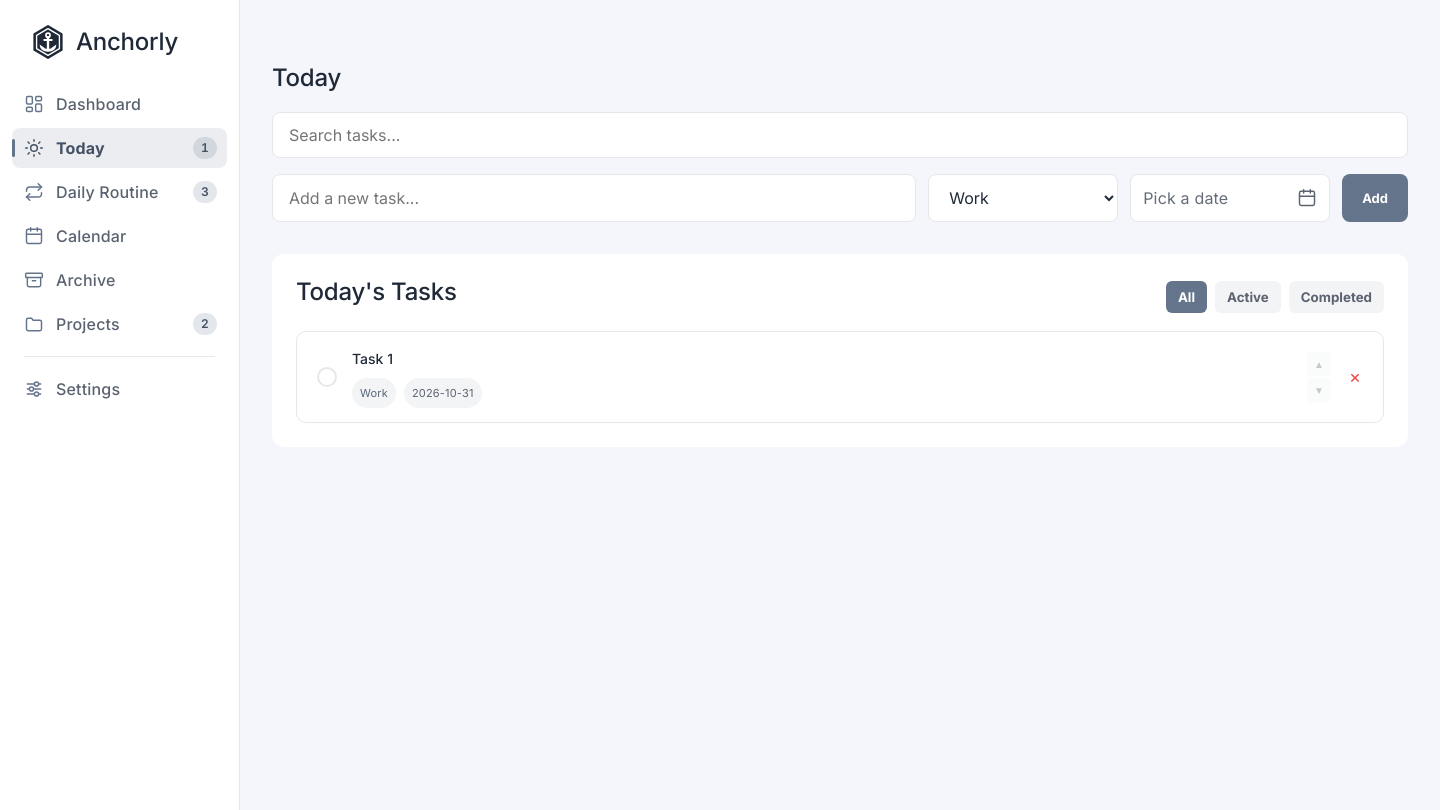
Test case: task detail dialog labels › names the step checkbox and delete button after the step
Click the button "Task 1" at [372, 359], box [352,346,393,372]
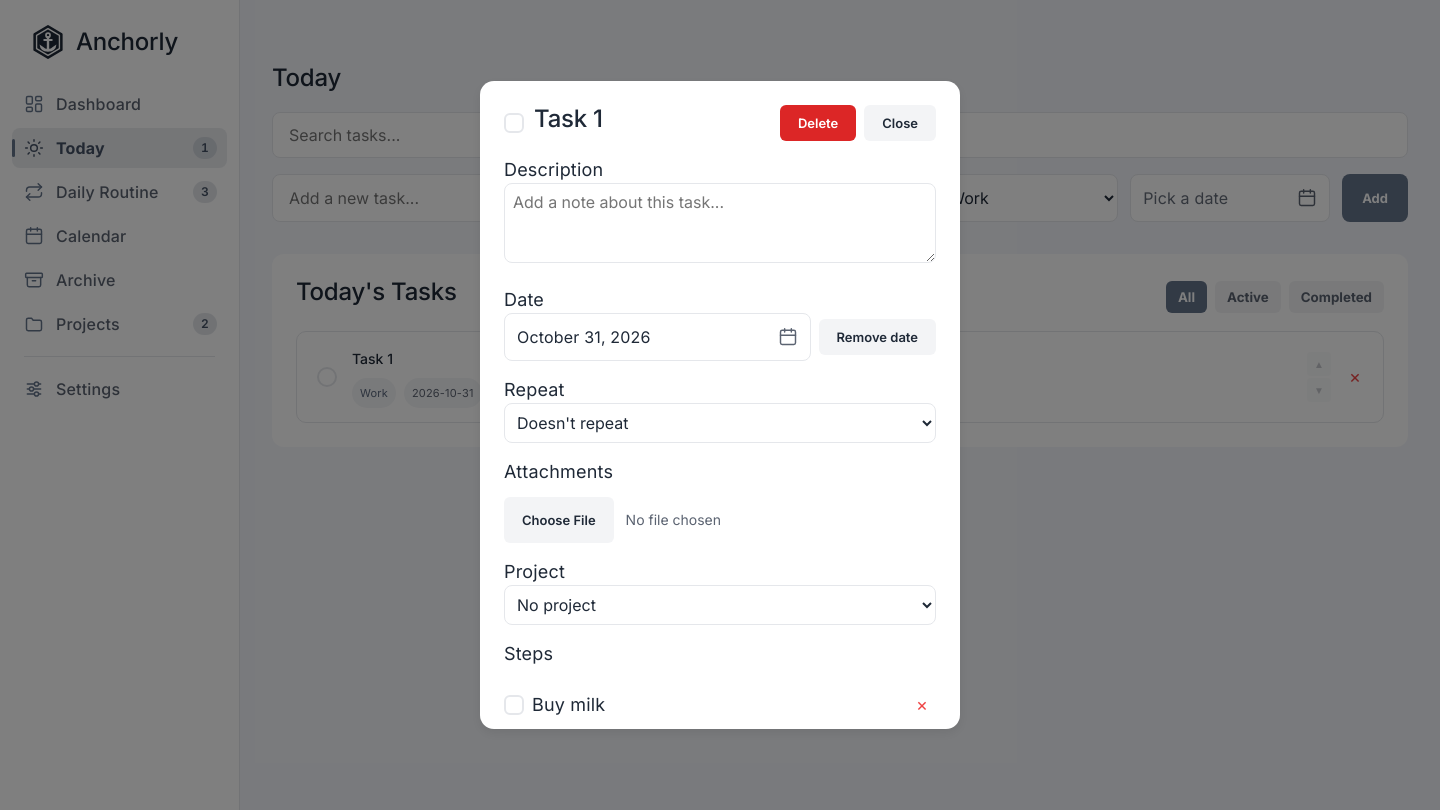
Expected: the checkbox named "Complete step \"Buy milk\"" is shown, [504,695,524,715]
Expected: the button named "Delete step \"Buy milk\"" is shown, [908,691,936,719]
